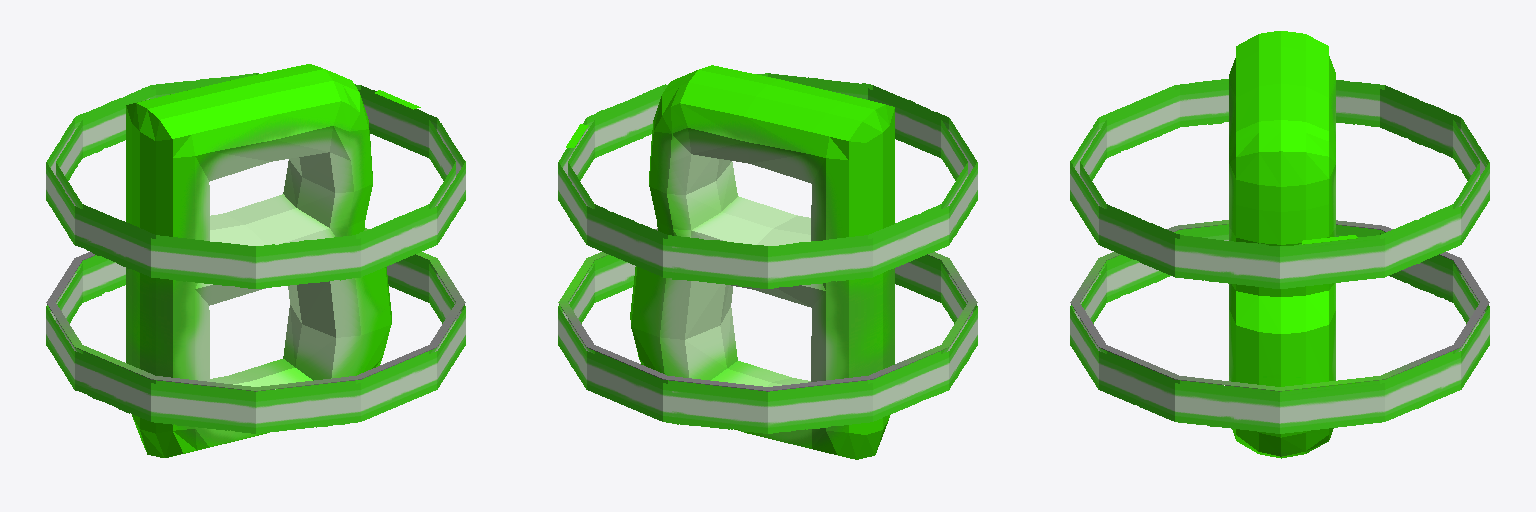
3 views of the same model, side by side, from view 1: azimuth 30°, elevation 25°; view 2: azimuth 150°, elevation 25°; view 3: azimuth 270°, elevation 25° (orthographic).
Visible parts, largest first — view 1: boost:pCube1, slow:group1pCylinder2, slow:pCylinder1group1; view 2: boost:pCube1, slow:group1pCylinder2, slow:pCylinder1group1; view 3: boost:pCube1, slow:group1pCylinder2, slow:pCylinder1group1.
Part boxes in pixels (x1,y1,x2,y2): boost:pCube1: (126,64,391,457); slow:group1pCylinder2: (46,73,465,288); slow:pCylinder1group1: (46,228,465,433); boost:pCube1: (630,65,894,459); slow:group1pCylinder2: (558,73,977,288); slow:pCylinder1group1: (558,228,977,433); boost:pCube1: (1229,31,1335,458); slow:group1pCylinder2: (1070,79,1489,288); slow:pCylinder1group1: (1070,220,1489,433).
Size of the model in its own units: 3.39 by 3.09 by 3.39.
Materials: 1 (1 with a texture image).